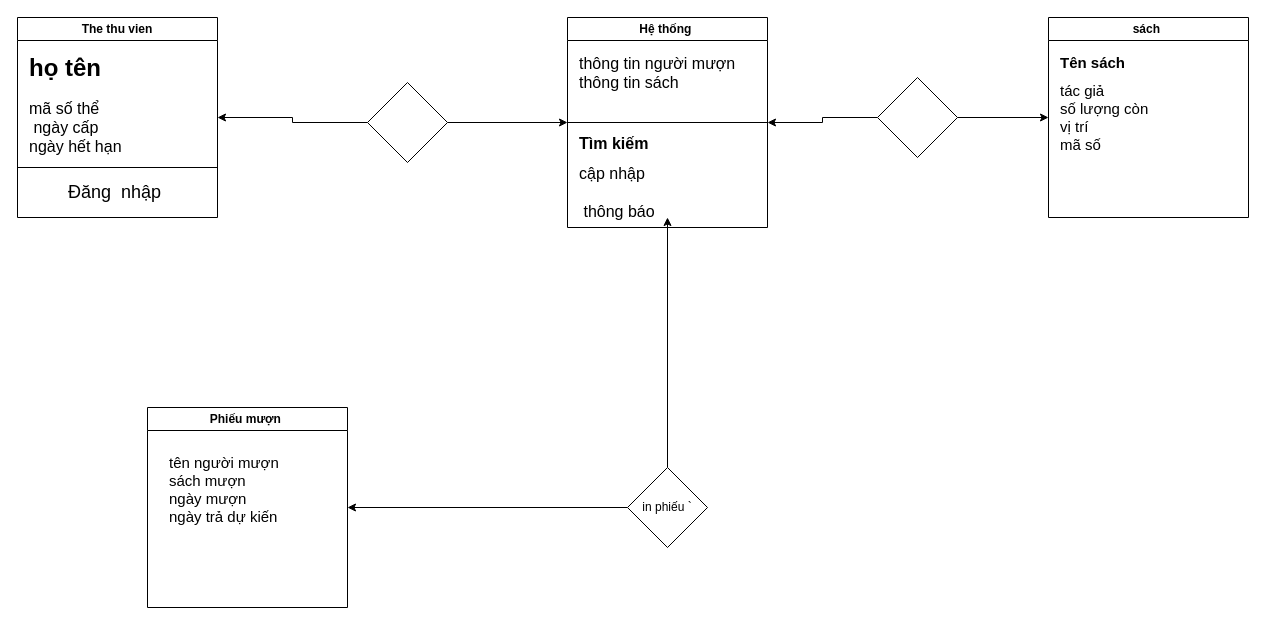
Some shapes in this 1266 by 625 pixel diagram are drawn without their labels. The centre of each missing label's shape, as x and y in pixels:
"thông tin người mượn" belongs at [407,122].
"thông tin sách" belongs at [917,117].
